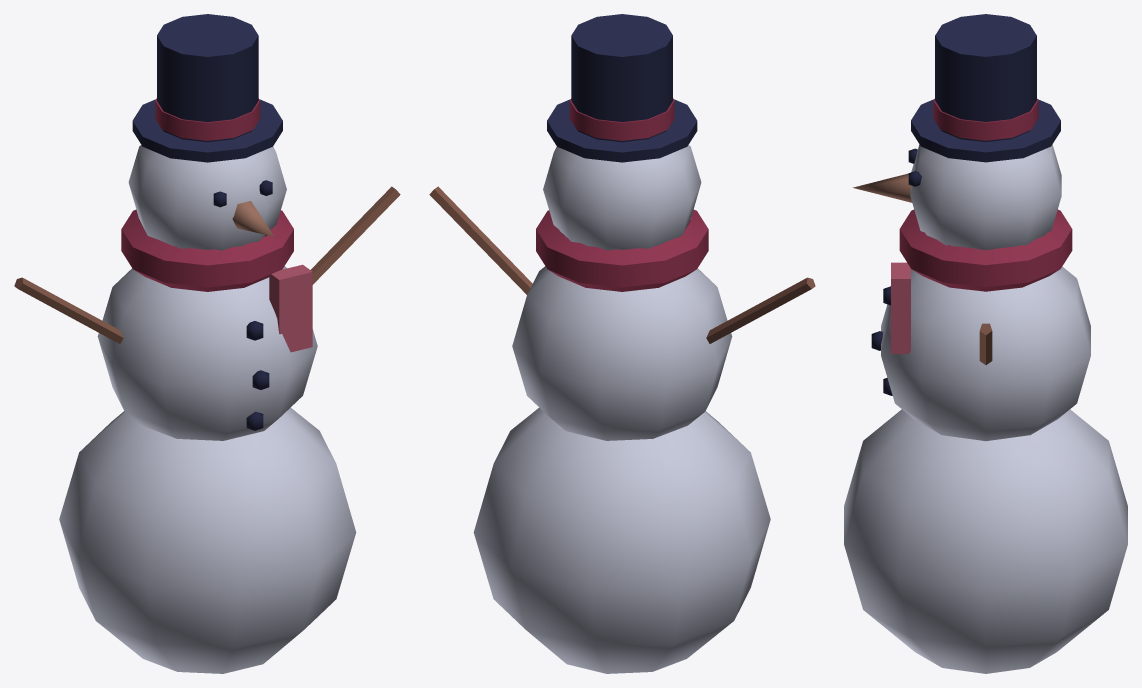
File: Snowman.fbx
3 renders of one model, left to right at view 1: azimuth 30°, elevation 25°; view 2: azimuth 150°, elevation 25°; view 3: azimuth 270°, elevation 25°, orthographic.
Parts seen in each view (by area): view 1: Snowman; view 2: Snowman; view 3: Snowman.
Part boxes in pixels (<box>): Snowman: <box>14,14,400,673</box>; Snowman: <box>429,14,815,673</box>; Snowman: <box>844,14,1127,673</box>.
Size of the model in its own units: 4.01 by 6.24 by 2.57.
1 material, 1 textured.
